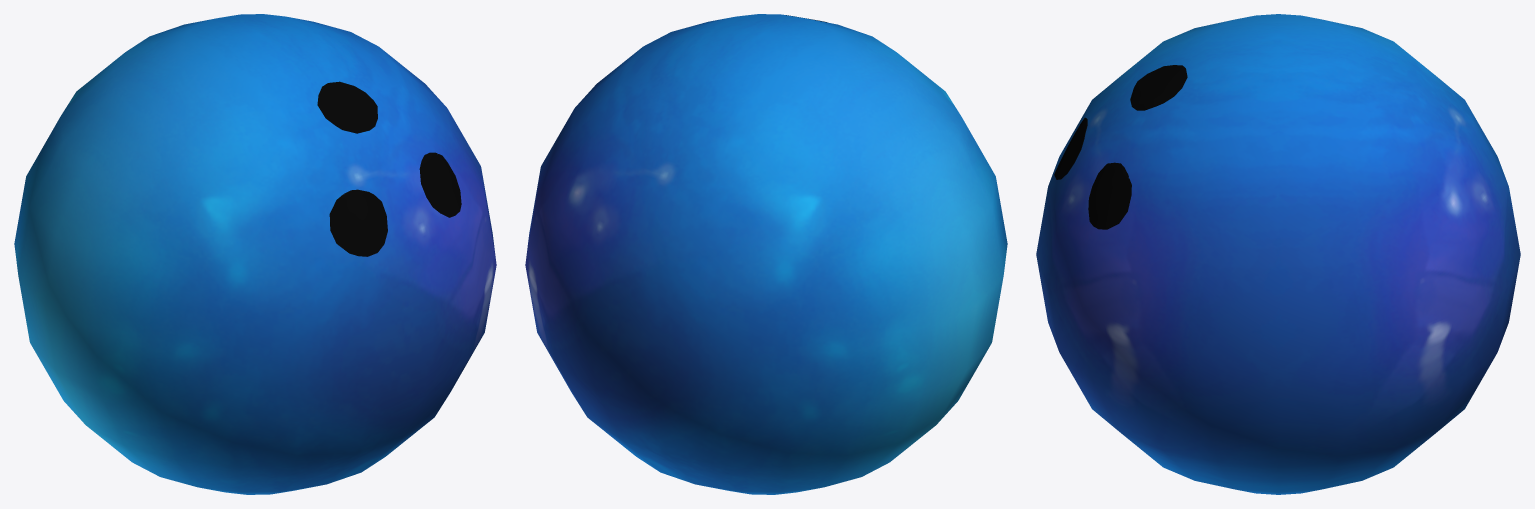
Rendered from qiu_12.FBX.
The picture shows the model from 3 angles, left to right: view 1: azimuth 30°, elevation 25°; view 2: azimuth 150°, elevation 25°; view 3: azimuth 270°, elevation 25°; orthographic projection.
Parts seen in each view (by area): view 1: qiu_12; view 2: qiu_12; view 3: qiu_12.
Boxes of the visible parts, <box> form: qiu_12: <box>14,14,496,494</box>; qiu_12: <box>525,14,1007,494</box>; qiu_12: <box>1036,14,1520,494</box>.
Size of the model in its own units: 592 by 592 by 592.
